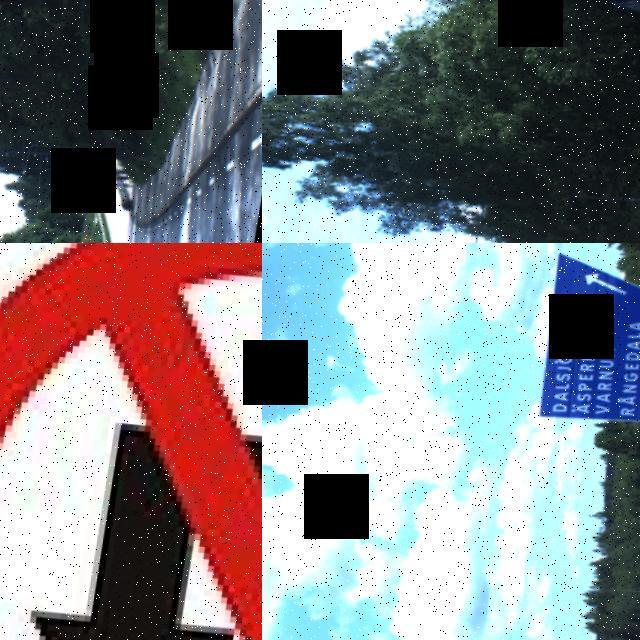180: (608, 0, 640, 15)
3: (532, 249, 640, 433)
No Left turn: (0, 243, 262, 640)
